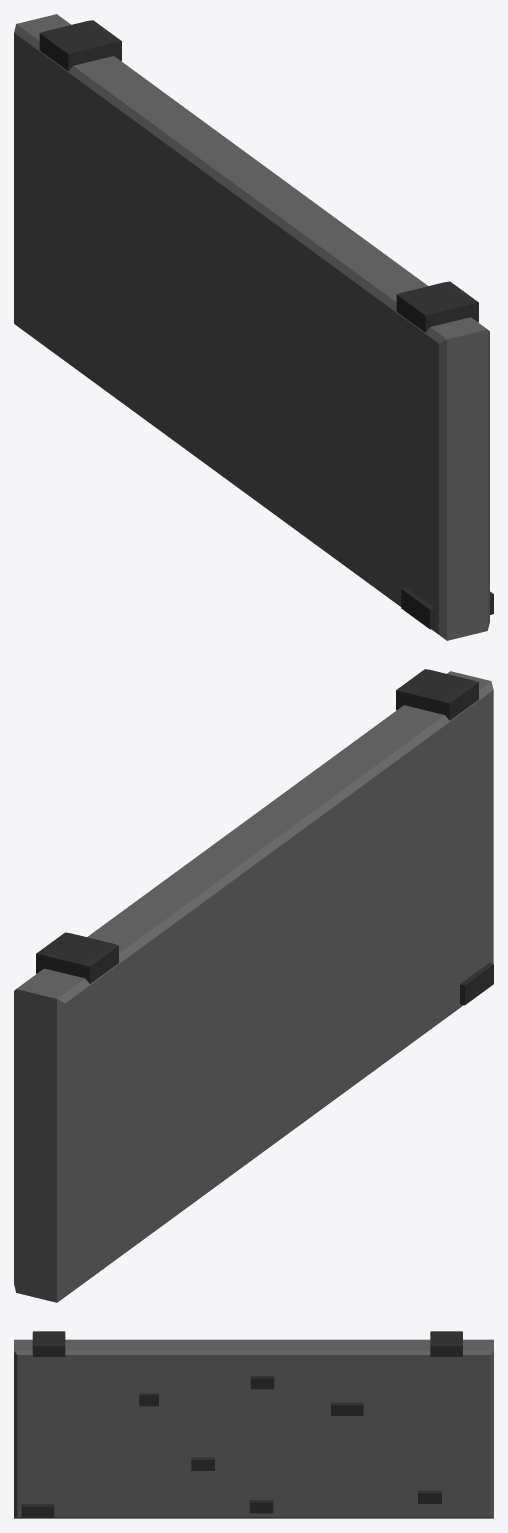
The model's file is StoneWall.fbx.
The picture shows the model from 3 angles, top to bottom: view 1: azimuth 30°, elevation 25°; view 2: azimuth 150°, elevation 25°; view 3: azimuth 270°, elevation 25°; orthographic projection. The views are drawn at different scales.
Parts seen in each view (by area): view 1: pCube53; view 2: pCube53; view 3: pCube53.
Part boxes in pixels (x1,y1,x2,y2): pCube53: (14, 14, 493, 640); pCube53: (14, 669, 493, 1302); pCube53: (14, 1331, 493, 1518).
Bounding box in the file's own units: 35.94 × 169 × 420.
1 material, 1 textured.
